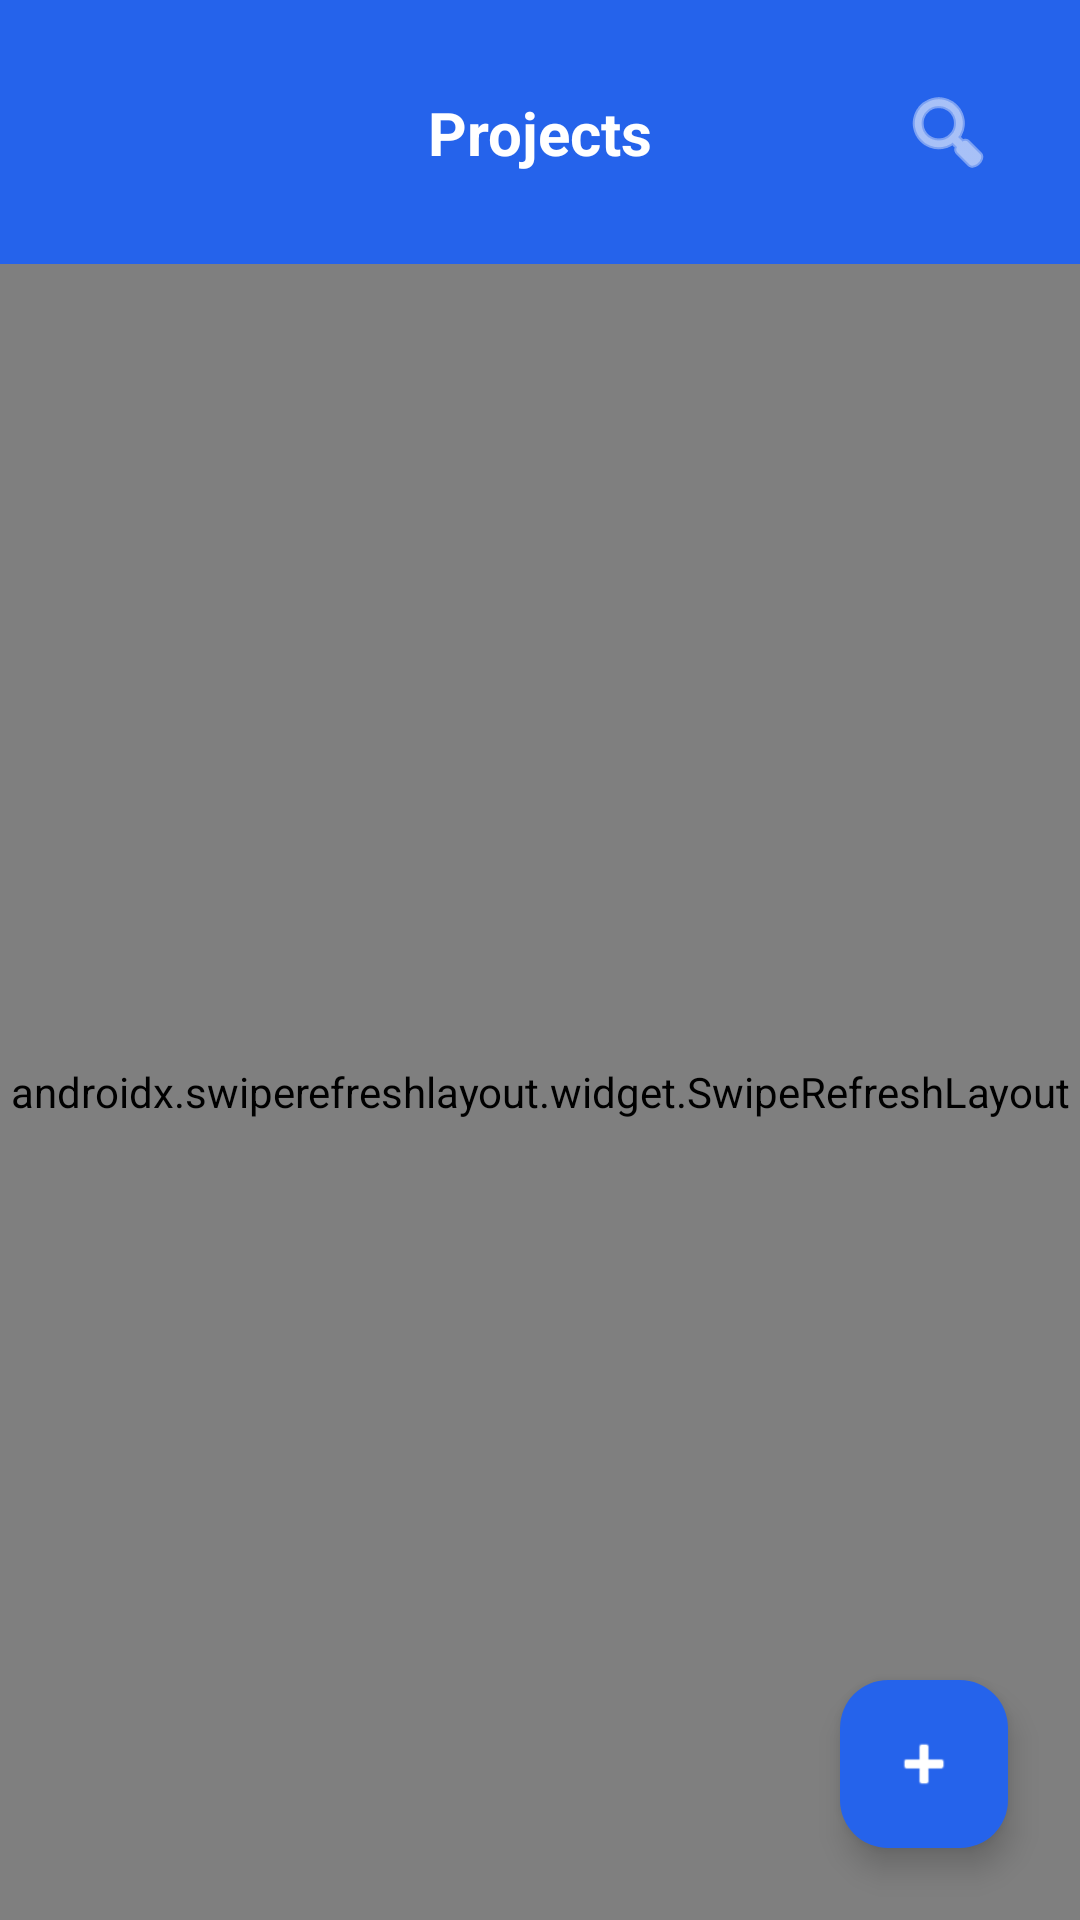

Named icons in this screenshot (1080 x 1920) and their centers, (x=x, y=y):
add: (x=924, y=1764)
search: (x=947, y=132)
